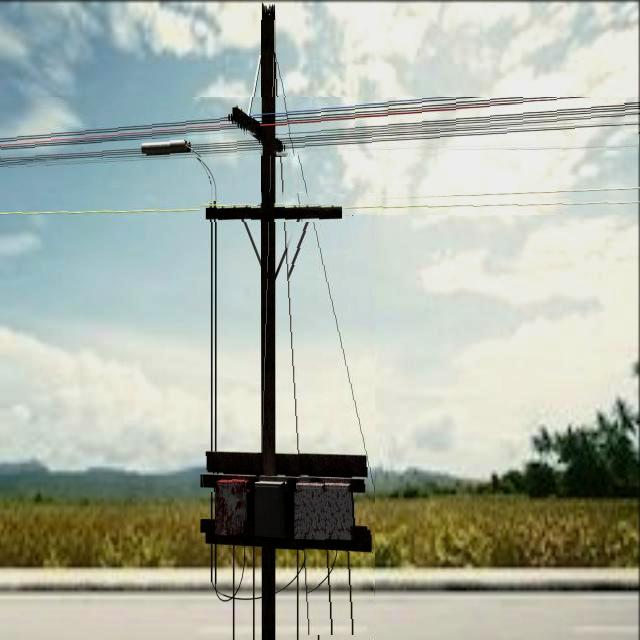crossarm: (201, 450, 343, 492), (197, 520, 344, 551), (200, 204, 345, 222), (229, 114, 286, 157)
pole: (261, 3, 276, 605)
transformer: (256, 482, 285, 544), (296, 482, 325, 542), (215, 479, 244, 539)
wire: (275, 54, 375, 523), (1, 121, 571, 160), (0, 97, 500, 139), (0, 104, 499, 143), (0, 120, 640, 150), (0, 130, 405, 168), (0, 129, 330, 166), (0, 197, 640, 215)
